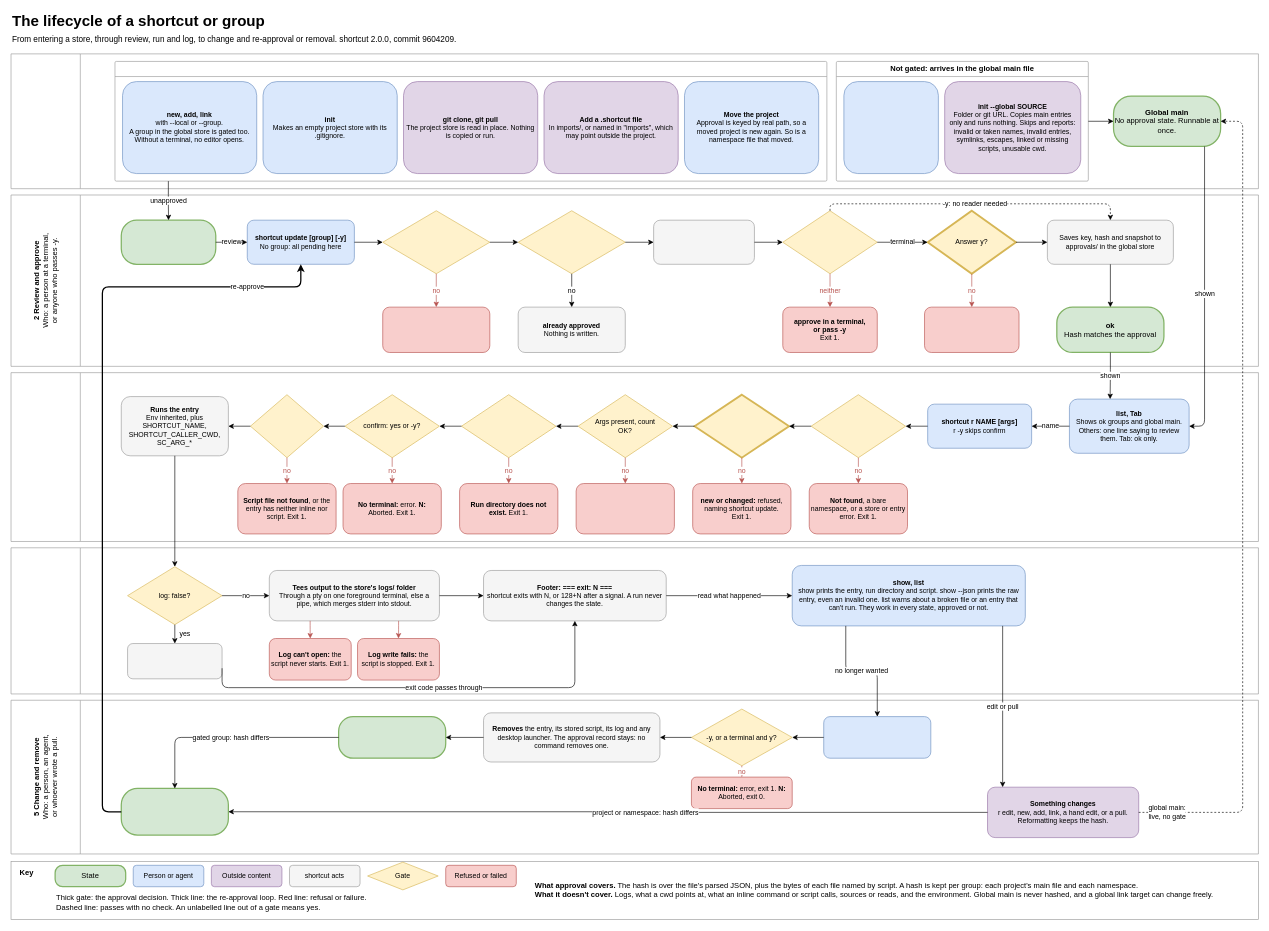
Some shapes in this 1269 by 931 pixel diagram are drawn without their labels. The box of each missing label's shape, as (x1, y1, x2, y2) in pixels:
-y, or a terminal?: (782, 210, 877, 274)
1 Enter Who: a person or an agent. The content can come from anyone.: (10, 53, 1258, 189)
3 List and run Who: a person or an agent asks. shortcut enforces.: (10, 372, 1258, 541)
4 Log and diagnose Who: shortcut writes. A person or an agent reads.: (10, 547, 1258, 694)
cannot approve Broken file, invalid entry or missing script. Exit 1.: (382, 306, 490, 352)
changed Hash differs. Only this group is blocked.: (120, 788, 229, 835)
File and entries valid?: (382, 210, 490, 274)
Gated: arrives in a project store or a namespace: (114, 61, 827, 181)
Group approved? Global main passes.: (693, 393, 790, 458)
Hash differs from approved?: (518, 210, 625, 274)
Name found, store clean?: (810, 394, 906, 458)
Name gone: (338, 716, 446, 759)
new No approval record: (120, 219, 216, 265)
new, add, link The default, with no flags.: (843, 81, 938, 174)
No log, no footer. The output goes straight through.: (127, 643, 222, 679)
Not approved. Exit 1.: (924, 306, 1019, 352)
Run directory exists?: (461, 394, 556, 458)
Script exists?: (250, 394, 324, 458)
shortcut rm NAME [-y] Works in every state: (823, 716, 931, 758)
Shows the diff against the snapshot, all of it the first time: (653, 220, 754, 264)
usage: line. A required arg is missing, or too many. Exit 2.: (576, 483, 674, 534)
